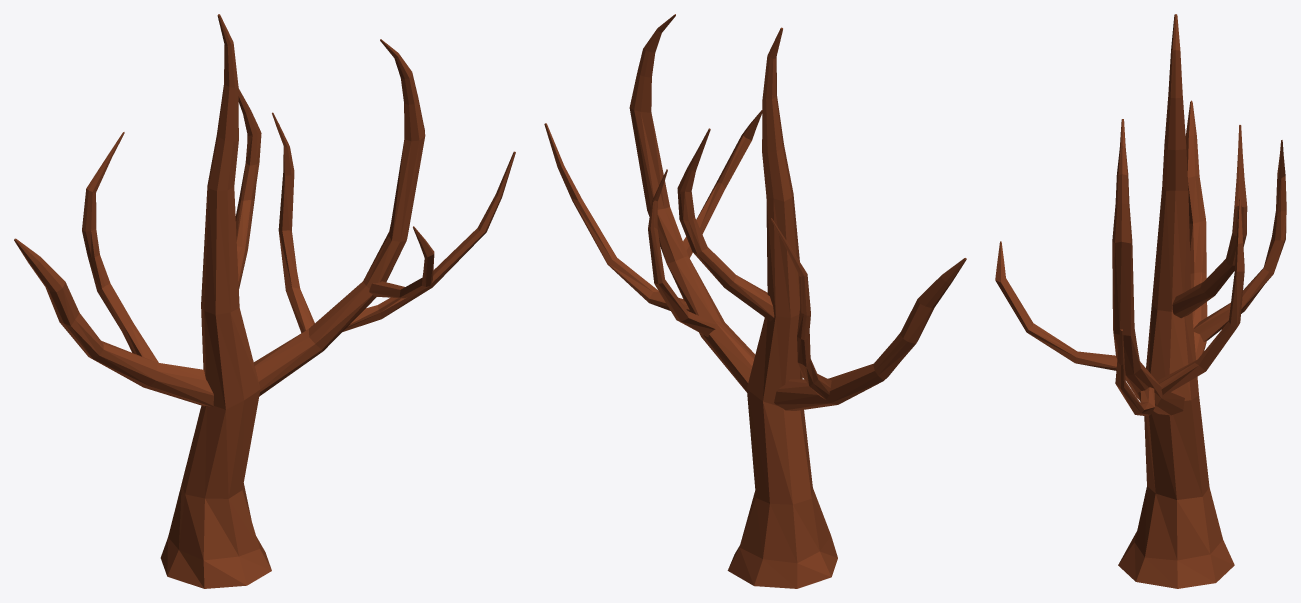
The model's file is bigTrunk.glb.
3 views of the same model, side by side, from view 1: azimuth 30°, elevation 25°; view 2: azimuth 150°, elevation 25°; view 3: azimuth 270°, elevation 25° (orthographic). The views are drawn at different scales.
Visible parts, largest first — view 1: Trunk.3; view 2: Trunk.3; view 3: Trunk.3.
Boxes of the visible parts, x1,y1,x2,y2 form: Trunk.3: (14, 14, 515, 588); Trunk.3: (544, 14, 966, 588); Trunk.3: (995, 14, 1286, 588).
Bounding box in the file's own units: 5.96 × 6.71 × 3.21.
